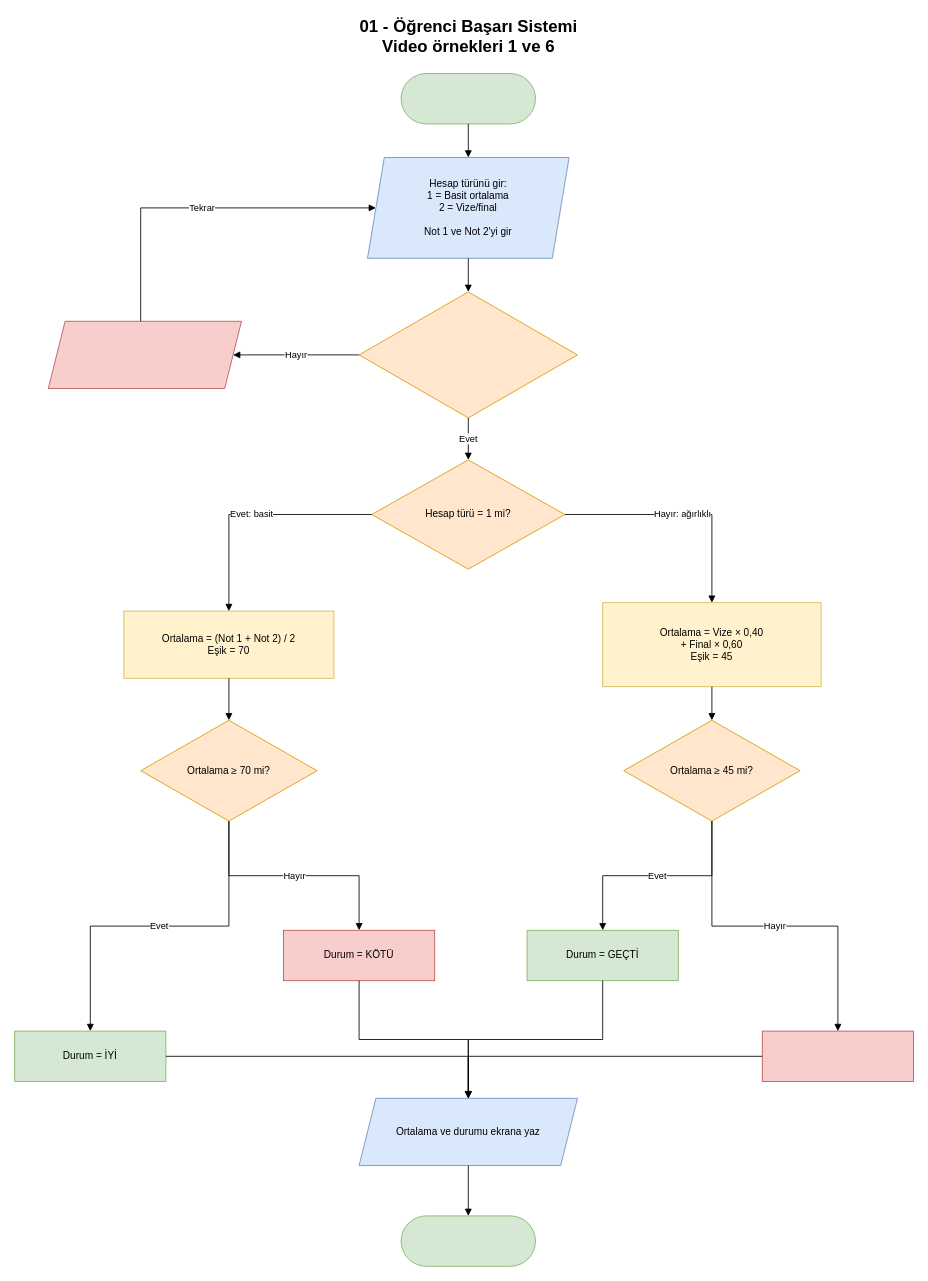
Image size: 928x1281. Some labels were removed from this diagram. Here are the shapes that lost their labels. From the top down, the centre of each, then its label:
At (x=468, y=98): "BAŞLA".
At (x=144, y=354): "Hatalı giriş! Tür ve notları yeniden gir.".
At (x=468, y=354): "Tür 1 veya 2 mi? Notlar 0–100 arasında mı?".
At (x=837, y=1056): "Durum = KALDI".
At (x=468, y=1240): "BİTİR".
